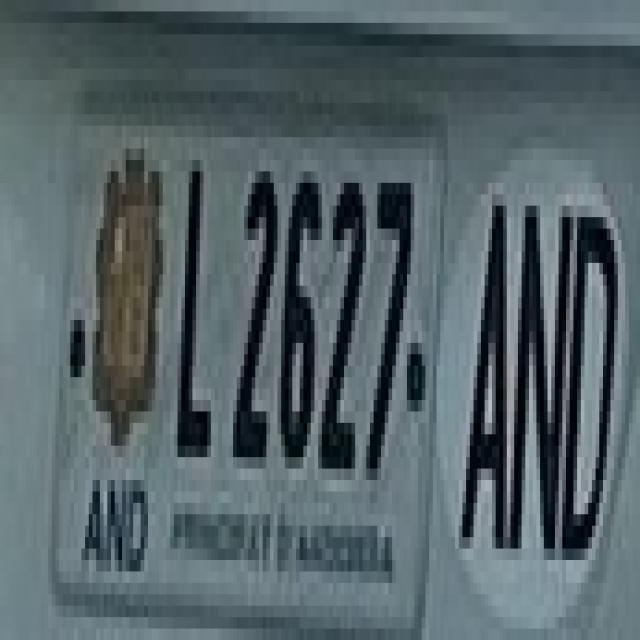2: (307, 148, 363, 458), (236, 148, 288, 446)
6: (274, 148, 326, 458)
7: (362, 148, 422, 468)
A: (444, 160, 518, 549)
D: (554, 160, 626, 560)
L: (148, 114, 259, 446)
